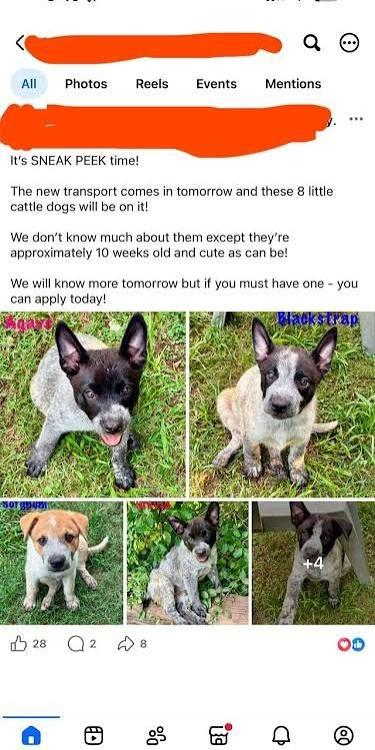puppy-dog: (23, 315, 153, 490), (209, 316, 339, 489), (276, 501, 365, 625), (137, 500, 221, 625), (21, 510, 109, 612)
